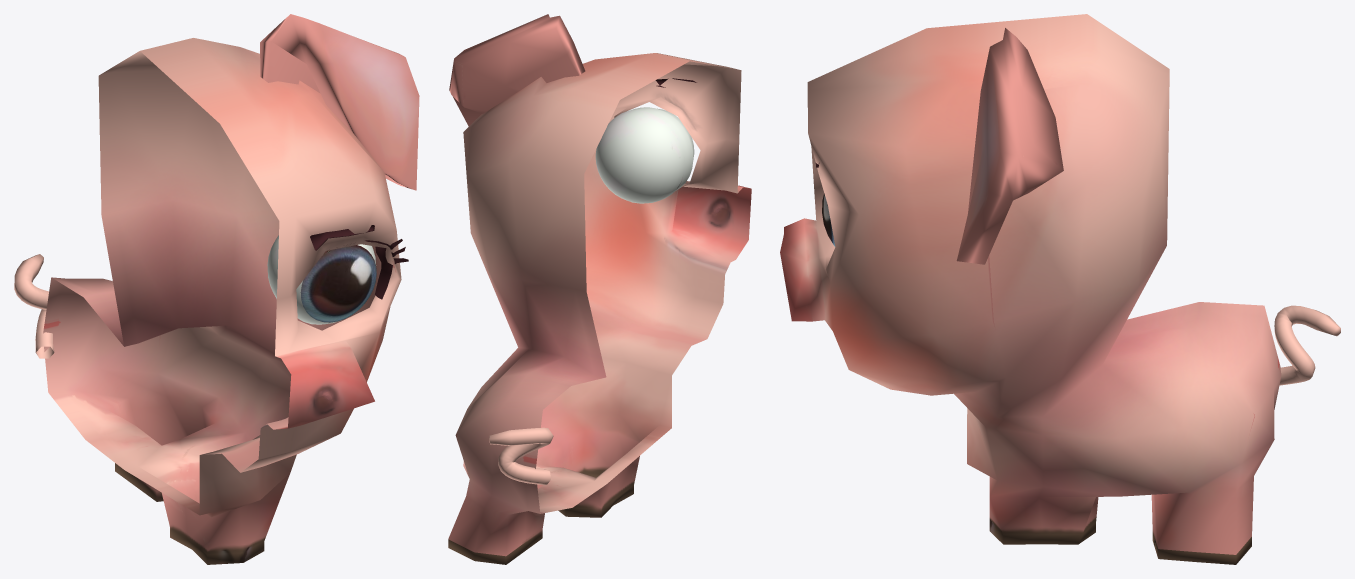
Rendered from porquinho.glb.
The picture shows the model from 3 angles, left to right: view 1: azimuth 30°, elevation 25°; view 2: azimuth 150°, elevation 25°; view 3: azimuth 270°, elevation 25°; orthographic projection. The views are drawn at different scales.
Parts seen in each view (by area): view 1: porquinho, orelha, olho, NurbsPath, sombrancelhas; view 2: porquinho, orelha, olho, NurbsPath; view 3: porquinho, orelha, NurbsPath.
Part boxes in pixels (x1=…): porquinho: x1=43, y1=38, x2=401, y2=564; orelha: x1=260, y1=14, x2=419, y2=190; olho: x1=267, y1=235, x2=376, y2=324; NurbsPath: x1=14, y1=254, x2=54, y2=358; sombrancelhas: x1=365, y1=239, x2=408, y2=299; porquinho: x1=448, y1=53, x2=751, y2=564; orelha: x1=449, y1=14, x2=585, y2=126; olho: x1=595, y1=107, x2=694, y2=203; NurbsPath: x1=489, y1=427, x2=553, y2=484; porquinho: x1=780, y1=14, x2=1281, y2=564; orelha: x1=956, y1=28, x2=1063, y2=264; NurbsPath: x1=1274, y1=305, x2=1340, y2=385.
Size of the model in its own units: 1.64 by 3.26 by 3.12.
Materials: 3 (2 with a texture image).
